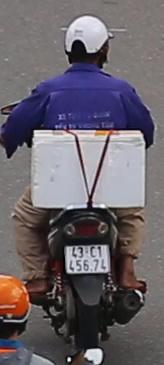LP: (63, 242, 113, 280)
helmet: (63, 11, 112, 68)
